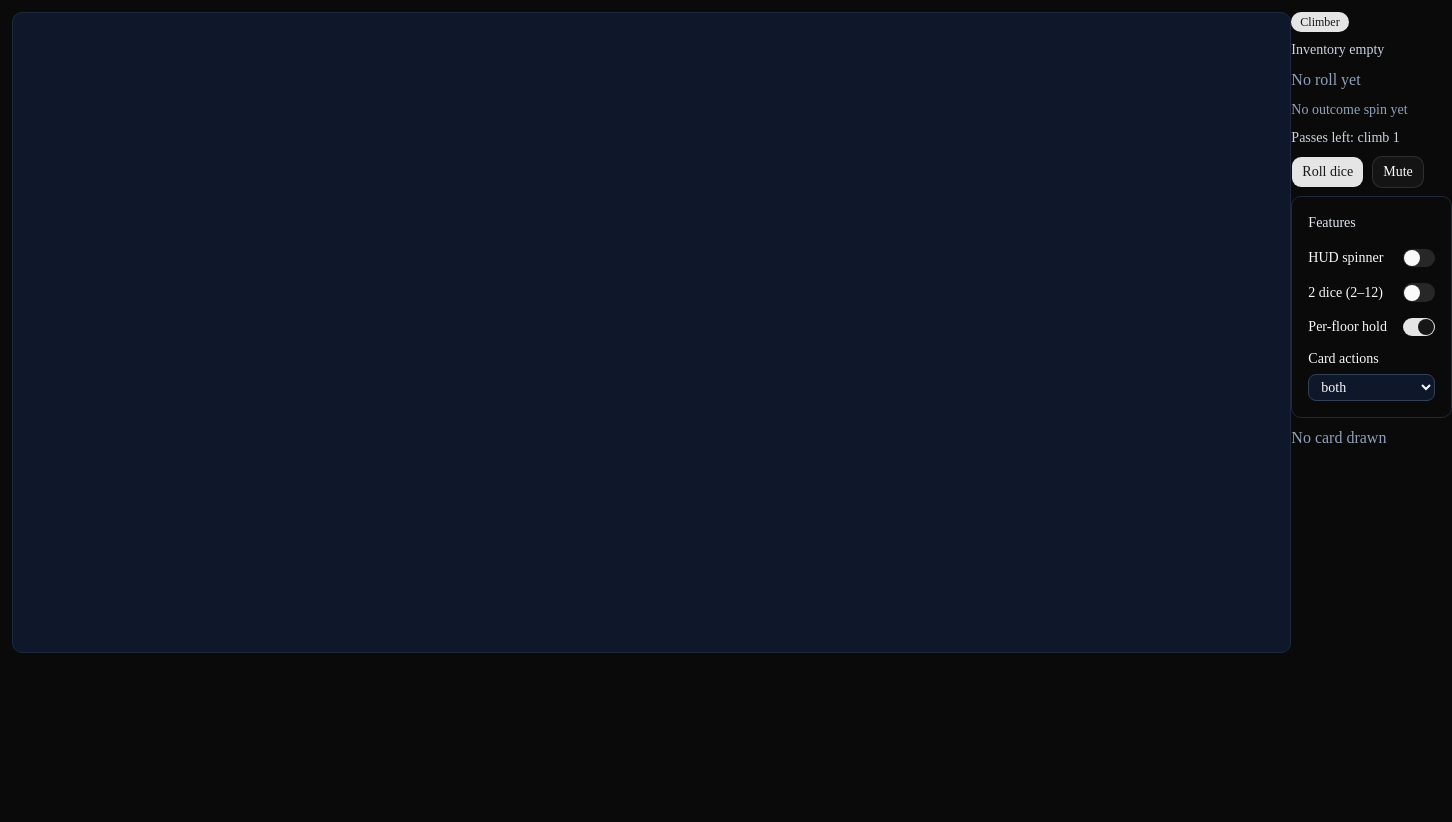
Test: GameHud › uses Spin and a 1-12 spinner when HUD spinner is on
Click the switch named "HUD spinner" next to "HUD spinner" at (1419, 258), box [1403,249,1435,267]
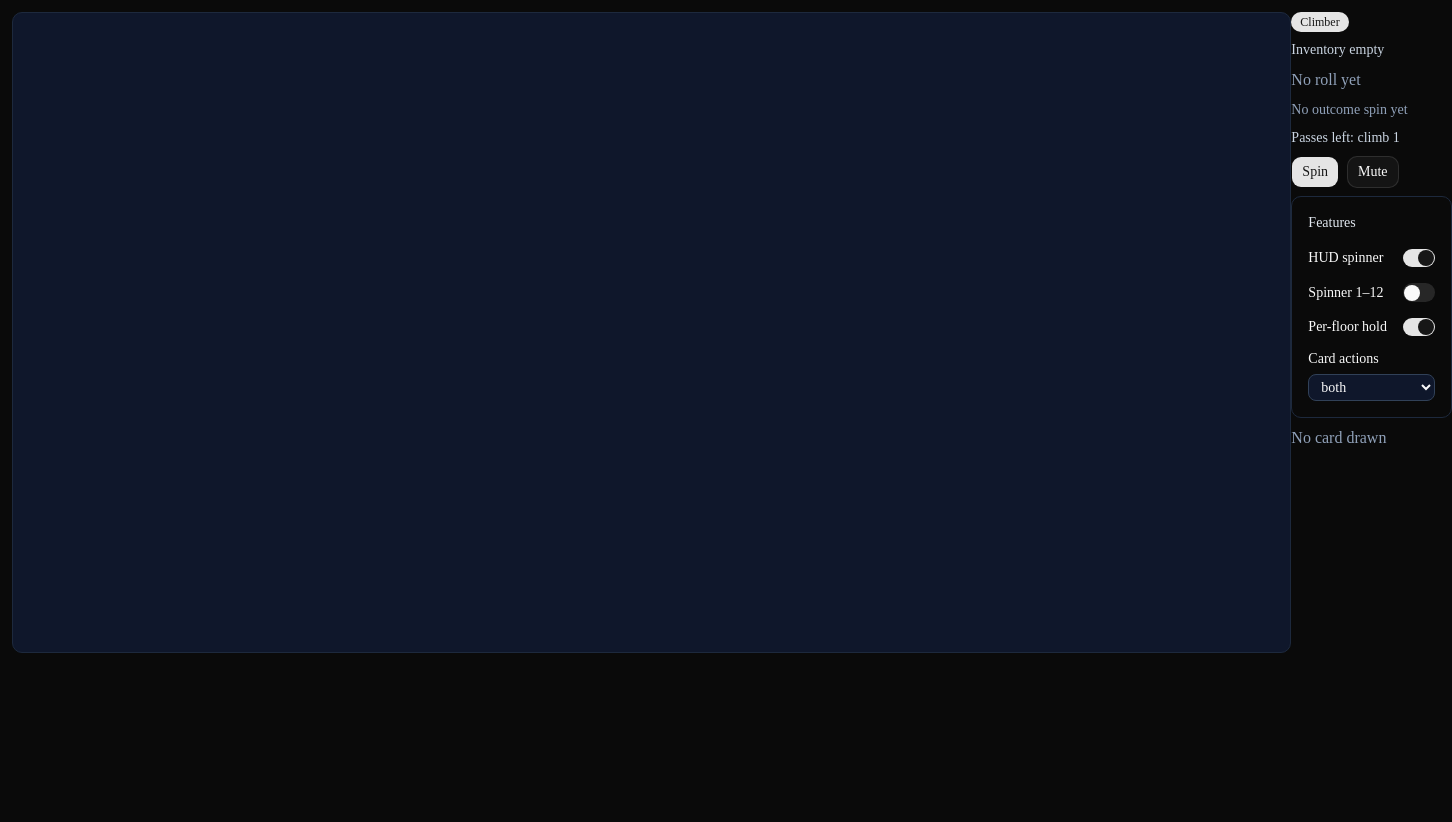
Click the switch named "Spinner 1–12" next to "Spinner 1–12" at (1419, 293), box [1403,283,1435,302]
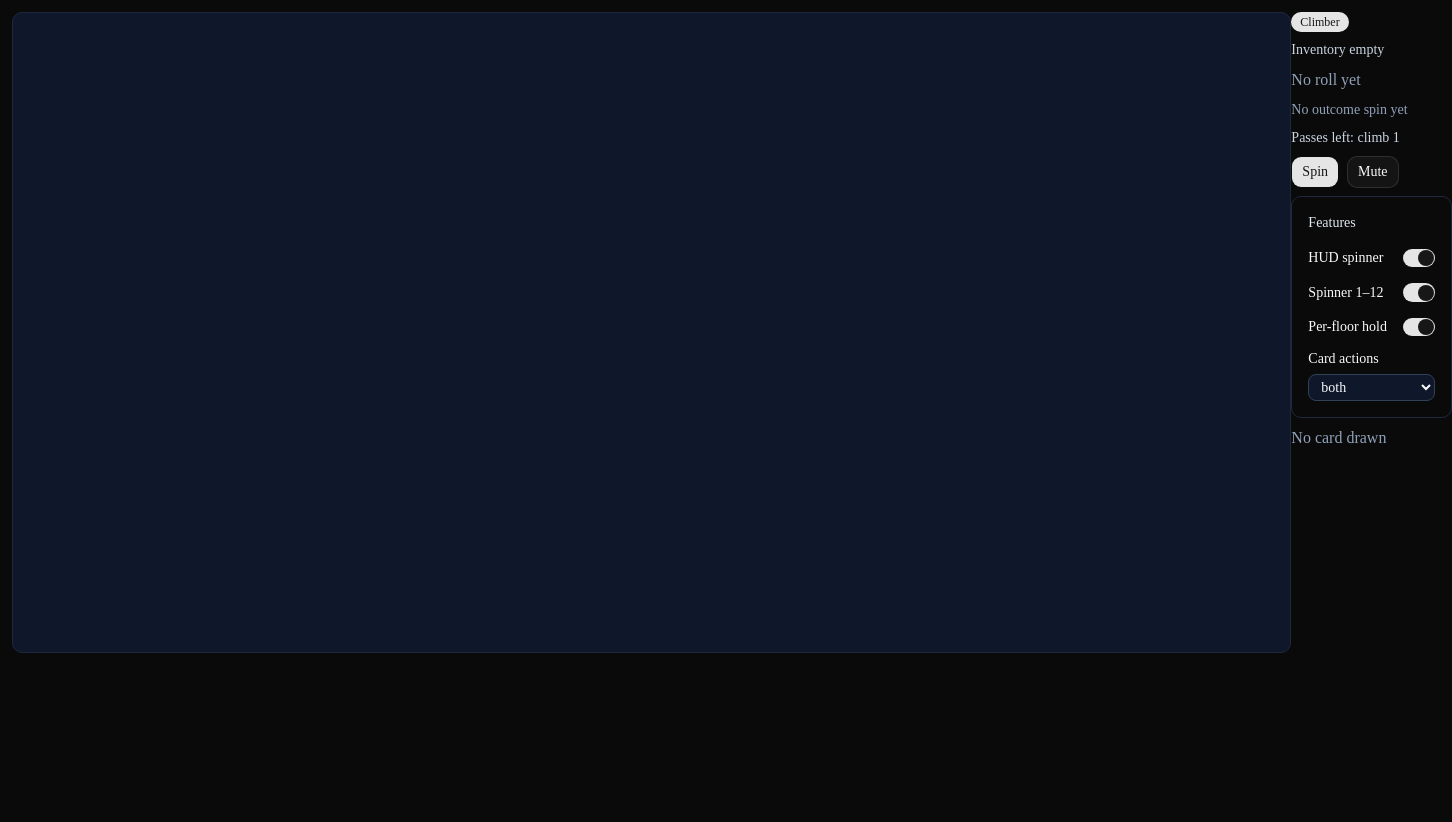
Click the button "Spin" at (1315, 172), box [1291,156,1339,188]
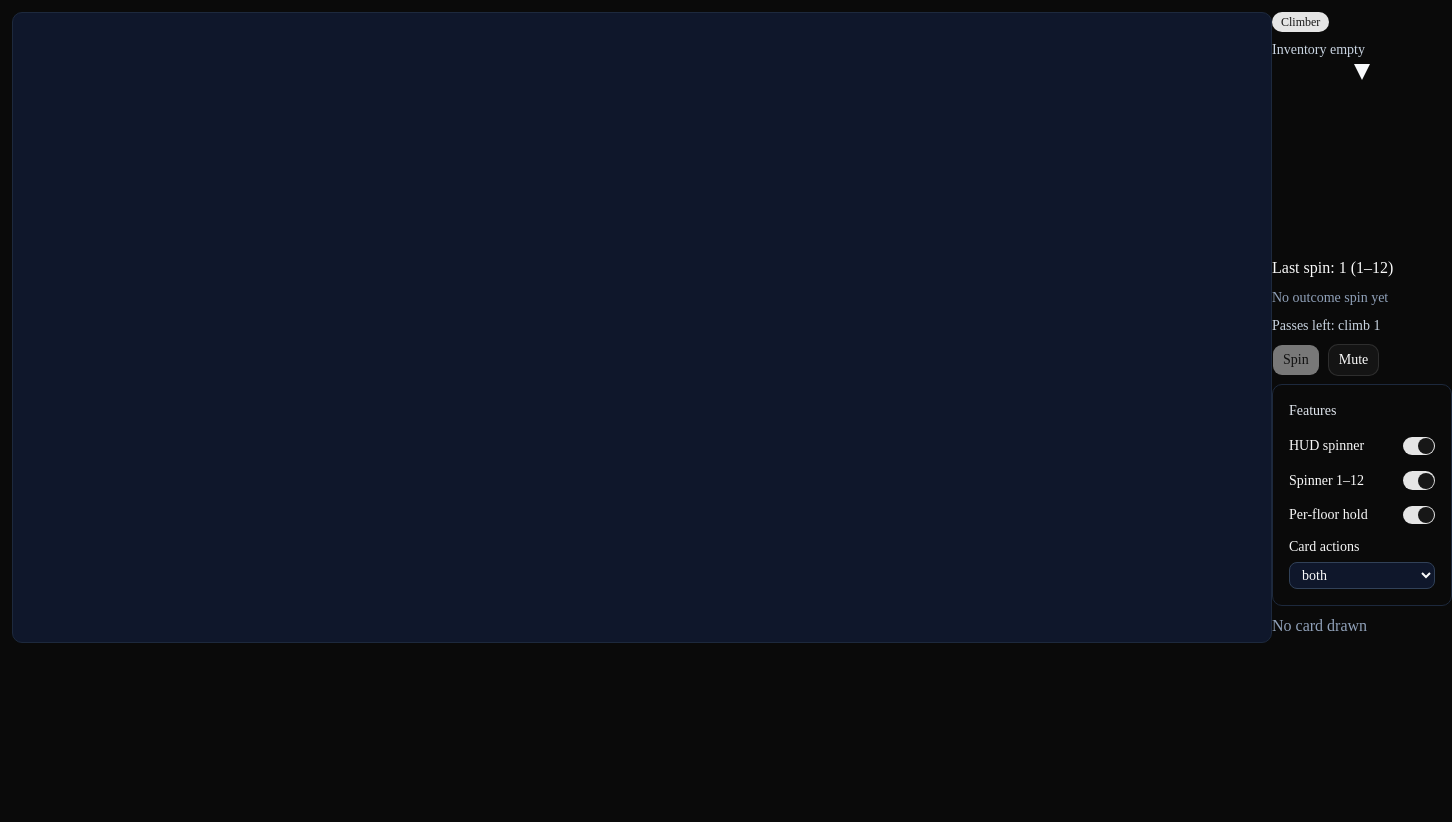
Now the picture named "Spinner showing" is shown, box [1354,64,1370,80]
